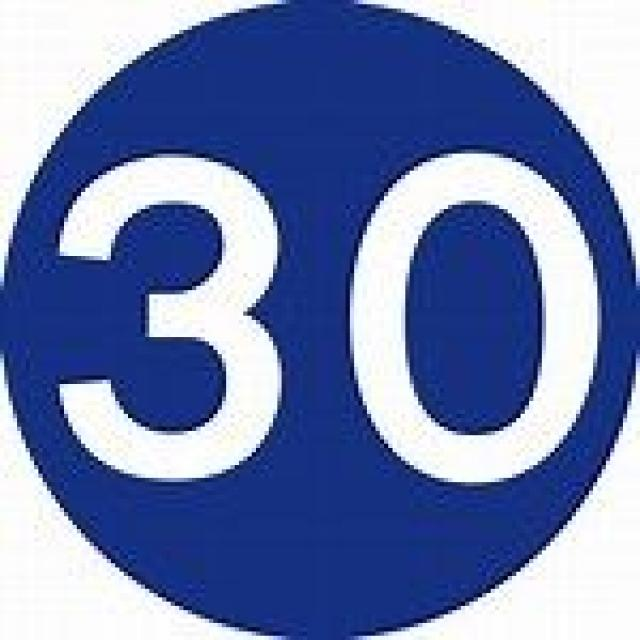COMPULSARY_MINIMUM_SPEED: (0, 0, 635, 631)
